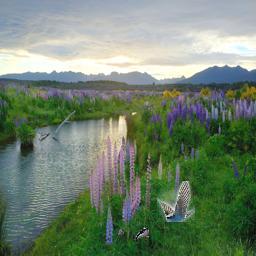Swallow: (157, 182, 195, 223)
Woodpecker: (133, 228, 149, 241)
